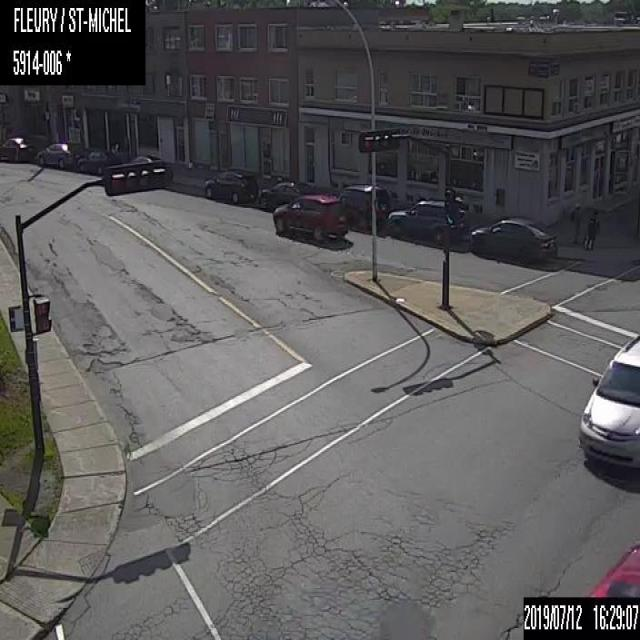pedestrian: (569, 202, 584, 246), (582, 209, 597, 252)
vehicle: (577, 334, 639, 469), (470, 213, 557, 260), (389, 192, 463, 246), (271, 192, 349, 240), (589, 543, 639, 596), (339, 182, 388, 234), (204, 167, 257, 204), (257, 178, 308, 210), (36, 138, 78, 168), (76, 148, 121, 172), (0, 135, 30, 161)
